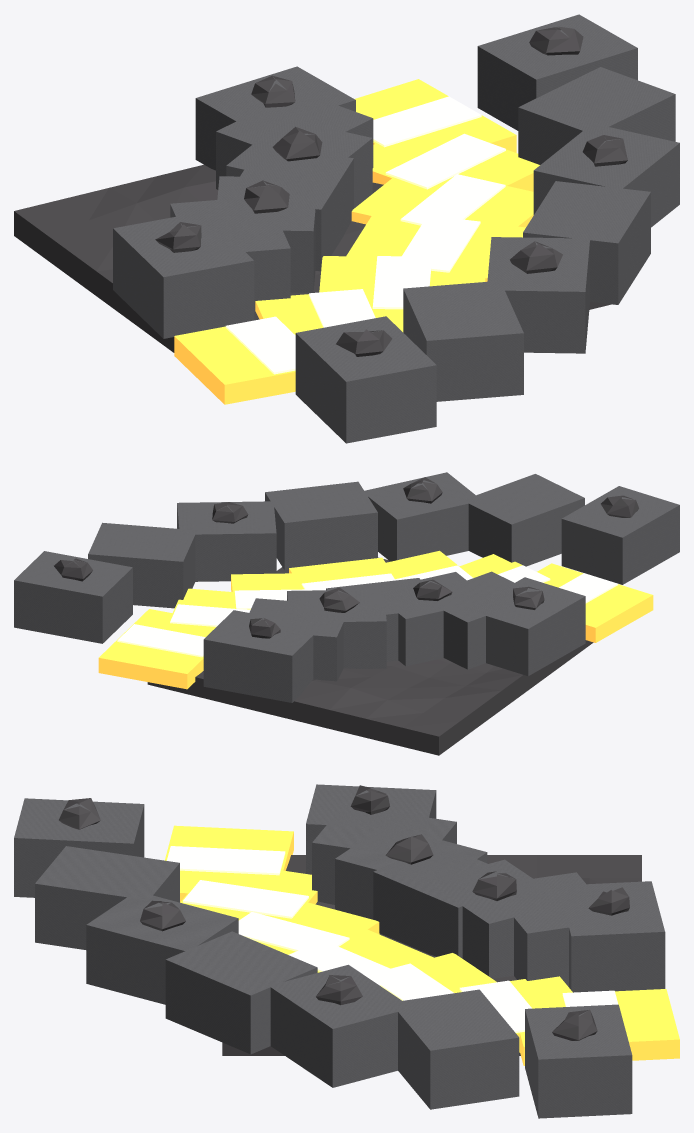
Rendered from volcano-and-lava-fields-volcano-and-lava-fields-lava-f-beaccbeb__37437.glb.
The picture shows the model from 3 angles, top to bottom: view 1: azimuth 30°, elevation 25°; view 2: azimuth 150°, elevation 25°; view 3: azimuth 270°, elevation 25°; orthographic projection. The views are drawn at different scales.
Visible parts, largest first — view 1: volcano-and-lava-fields-lava-flow-channel-curve; view 2: volcano-and-lava-fields-lava-flow-channel-curve; view 3: volcano-and-lava-fields-lava-flow-channel-curve.
Part boxes in pixels (left/top/right/bottom): volcano-and-lava-fields-lava-flow-channel-curve: left=14, top=14, right=679, bottom=443; volcano-and-lava-fields-lava-flow-channel-curve: left=14, top=472, right=679, bottom=755; volcano-and-lava-fields-lava-flow-channel-curve: left=14, top=784, right=679, bottom=1118.
Size of the model in its own units: 6.35 by 1.11 by 6.35.
4 materials, 1 textured.
